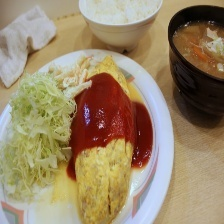rice: (74, 0, 164, 27)
